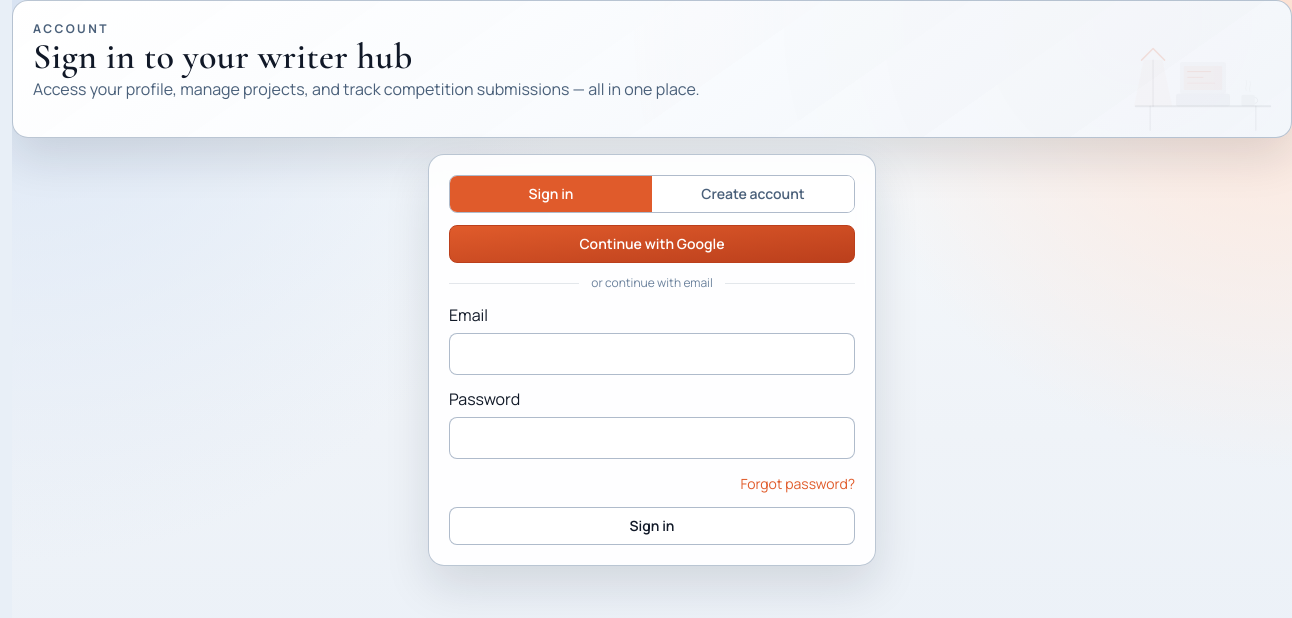
Test case: SignInPage › shows error state when login fails
The width and height of the screenshot is (1292, 618).
Type "writer@example.com" into the field labelled "Email". click: [652, 354]
box: [449,333,855,375]
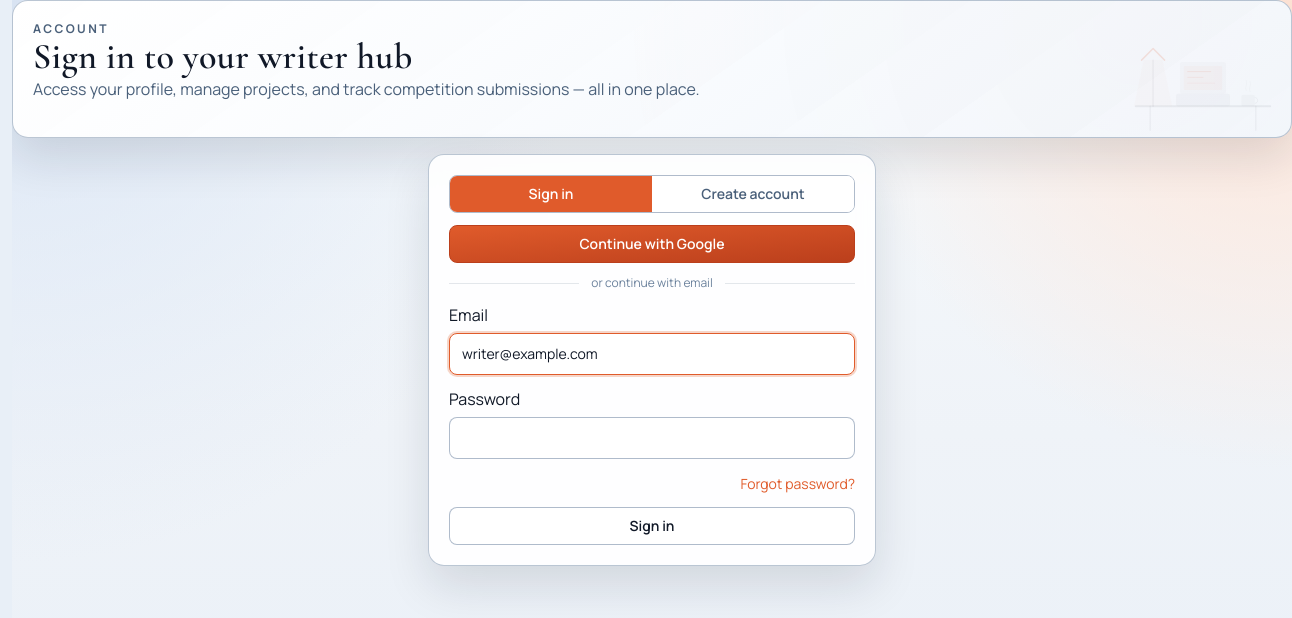
Type "wrong-password" into the password field labelled "Password". click: [652, 438]
box: [449,417,855,459]
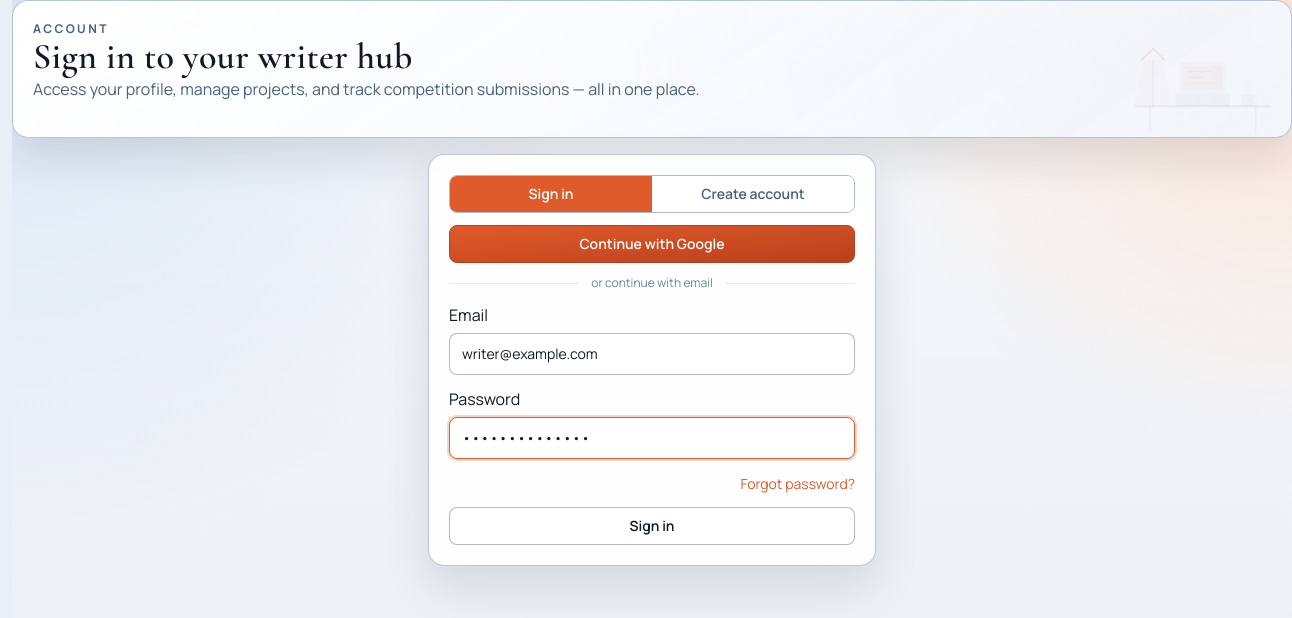
Note: Both the toggle and submit say "Sign in" — target the submit button
Click the 2nd button "Sign in". click: [652, 526]
box: [449,507,855,545]
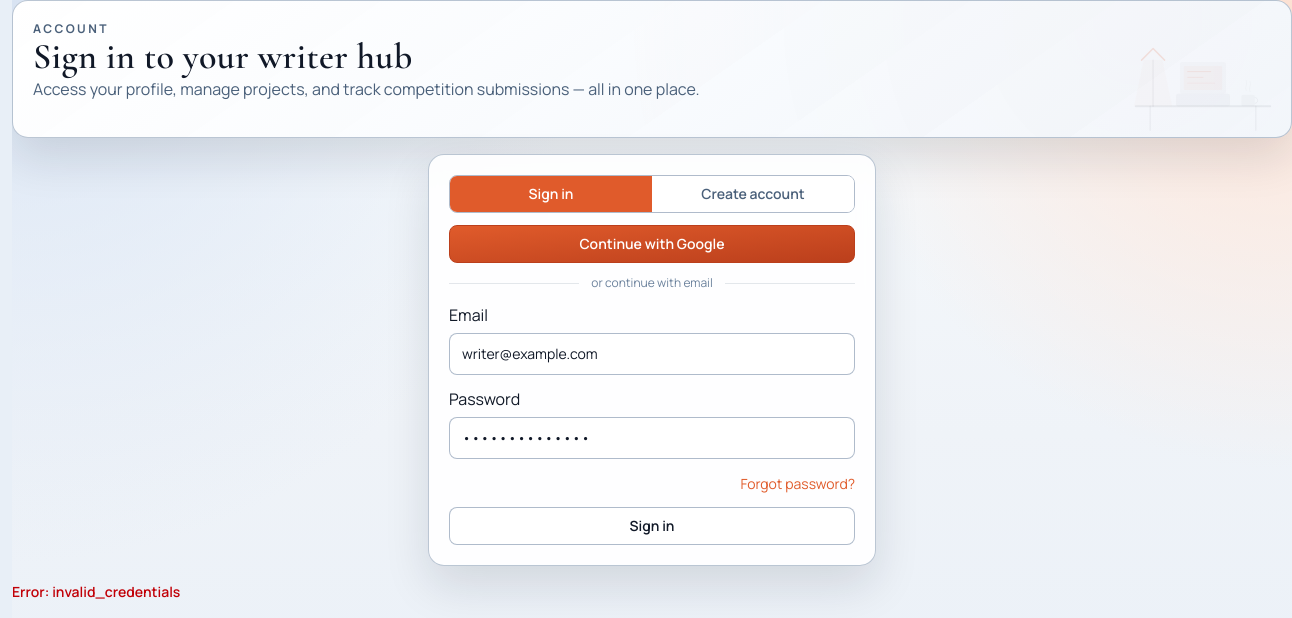
Check: the text "Error: invalid_credentials" is shown, box [12,582,180,601]
